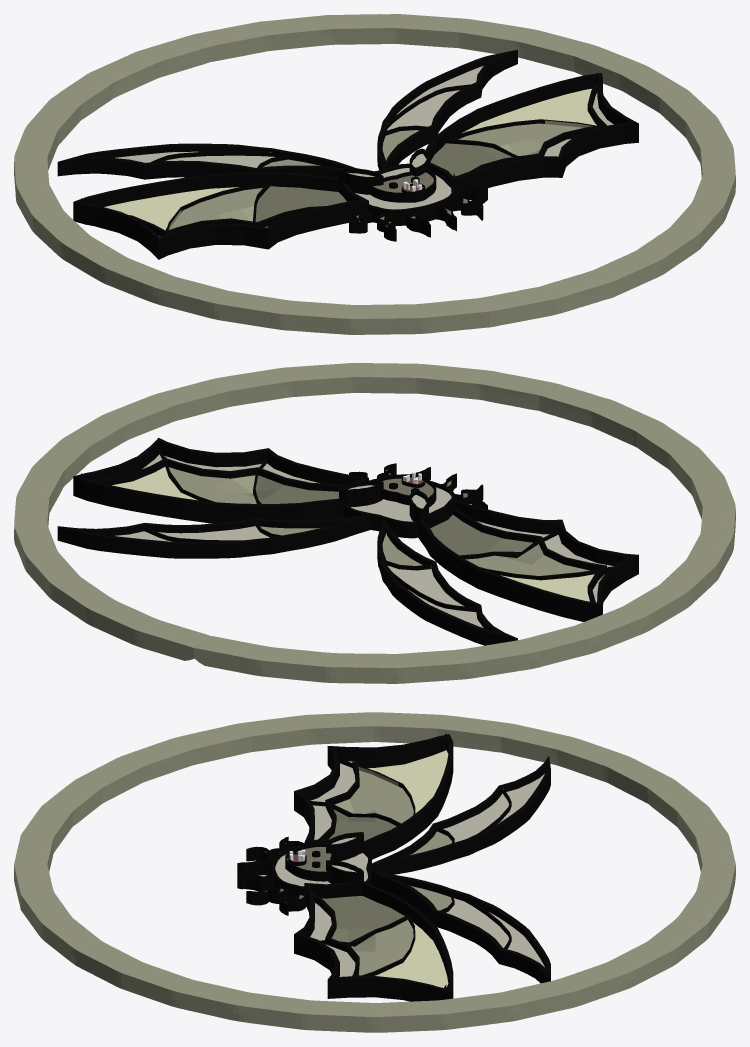
File: batColor.fbx
3 renders of one model, top to bottom at view 1: azimuth 30°, elevation 25°; view 2: azimuth 150°, elevation 25°; view 3: azimuth 270°, elevation 25°, orthographic.
Visible parts, largest first — view 1: AllOne; view 2: AllOne; view 3: AllOne.
Part boxes in pixels (bbox=[...]): AllOne: bbox=[14, 14, 735, 334]; AllOne: bbox=[14, 363, 735, 683]; AllOne: bbox=[14, 712, 735, 1032].
Bounding box in the file's own units: 480 × 21.73 × 480.
